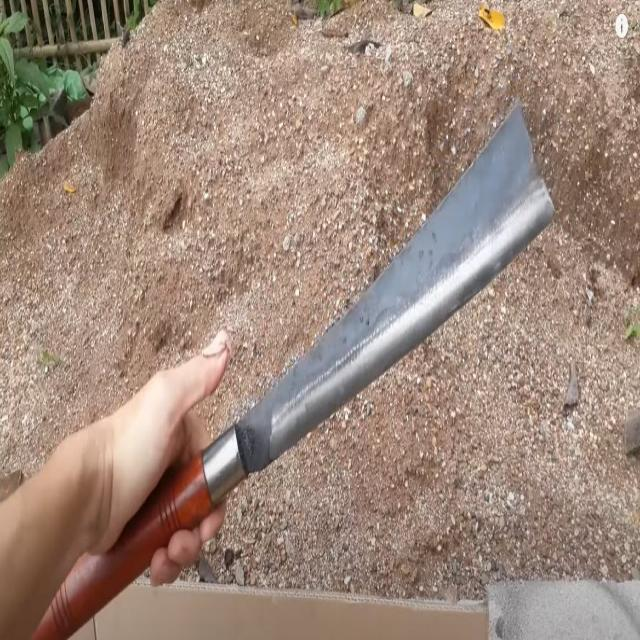eto: (25, 99, 557, 640)
